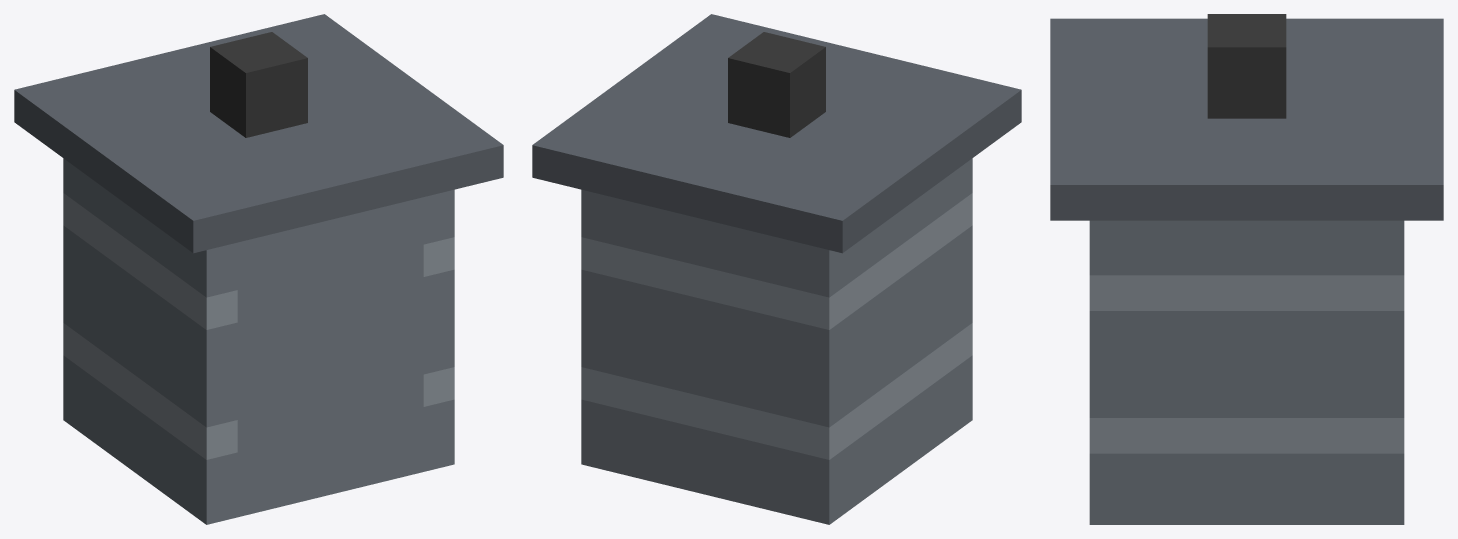
File: can.glb
The picture shows the model from 3 angles, left to right: view 1: azimuth 30°, elevation 25°; view 2: azimuth 150°, elevation 25°; view 3: azimuth 270°, elevation 25°; orthographic projection. The views are drawn at different scales.
Visible parts, largest first — view 1: can; view 2: can; view 3: can.
Part boxes in pixels (bbox=[...]): can: bbox=[14, 14, 503, 524]; can: bbox=[532, 14, 1021, 524]; can: bbox=[1050, 14, 1443, 524].
Bounding box in the file's own units: 0.5 × 0.6 × 0.5.
Materials: 1 (1 with a texture image).
